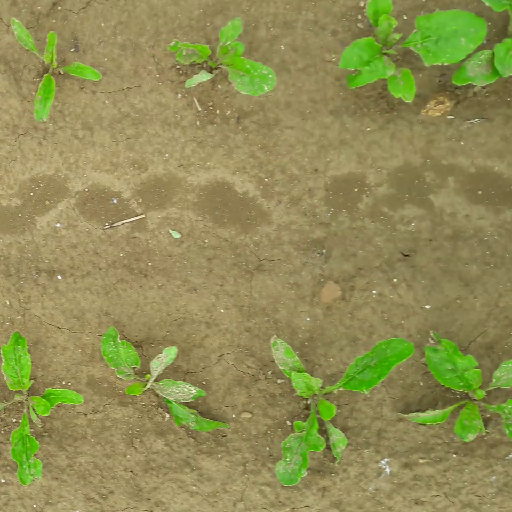sugarbeet: (267, 331, 417, 489), (335, 1, 489, 108), (97, 322, 231, 433), (395, 329, 512, 443), (1, 333, 87, 488), (6, 13, 103, 125), (162, 16, 278, 97), (449, 1, 512, 90)
